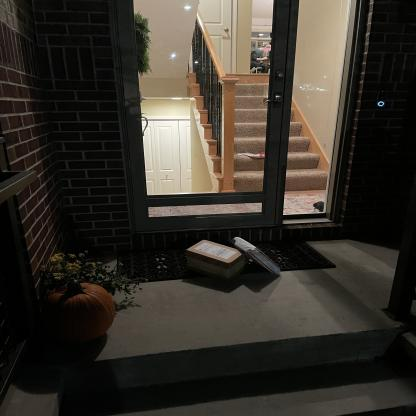box: (184, 239, 246, 280)
plastic_bag: (234, 236, 281, 277)
